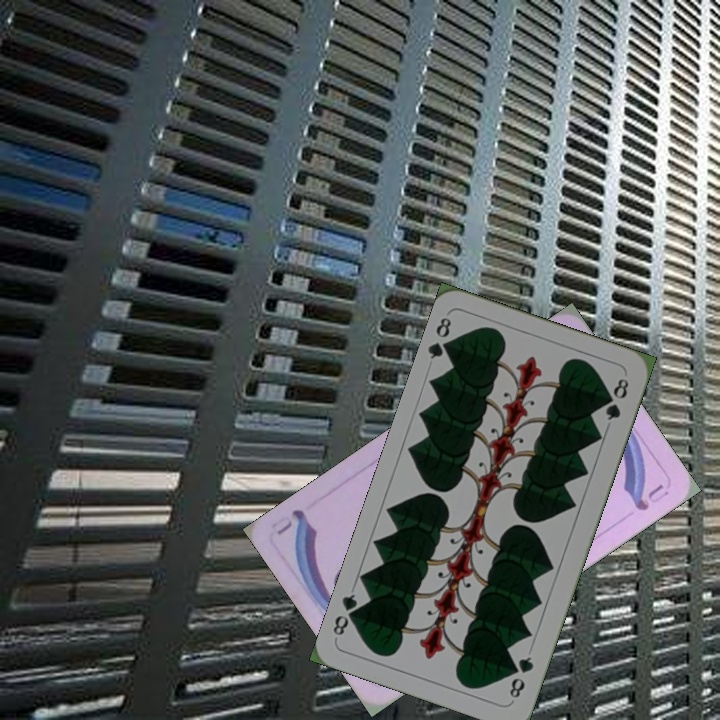G8: (424, 313, 457, 362), (505, 652, 537, 701)
